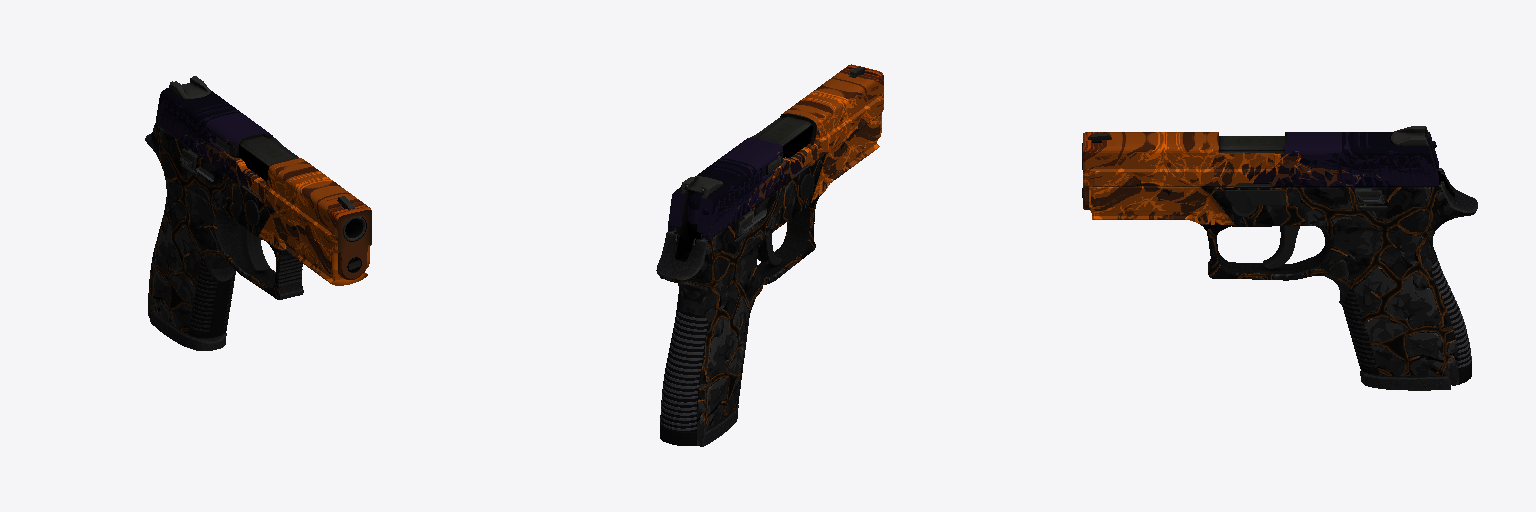
The picture shows the model from 3 angles: view 1: azimuth 30°, elevation 25°; view 2: azimuth 150°, elevation 25°; view 3: azimuth 270°, elevation 25°; orthographic projection.
Visible parts, largest first — view 1: weapon; view 2: weapon; view 3: weapon.
Boxes of the visible parts, x1=… form: weapon: x1=145, y1=76, x2=371, y2=350; weapon: x1=656, y1=64, x2=883, y2=446; weapon: x1=1082, y1=126, x2=1477, y2=390.
Size of the model in its own units: 1.25 by 5.49 by 7.97.
Materials: 1 (1 with a texture image).